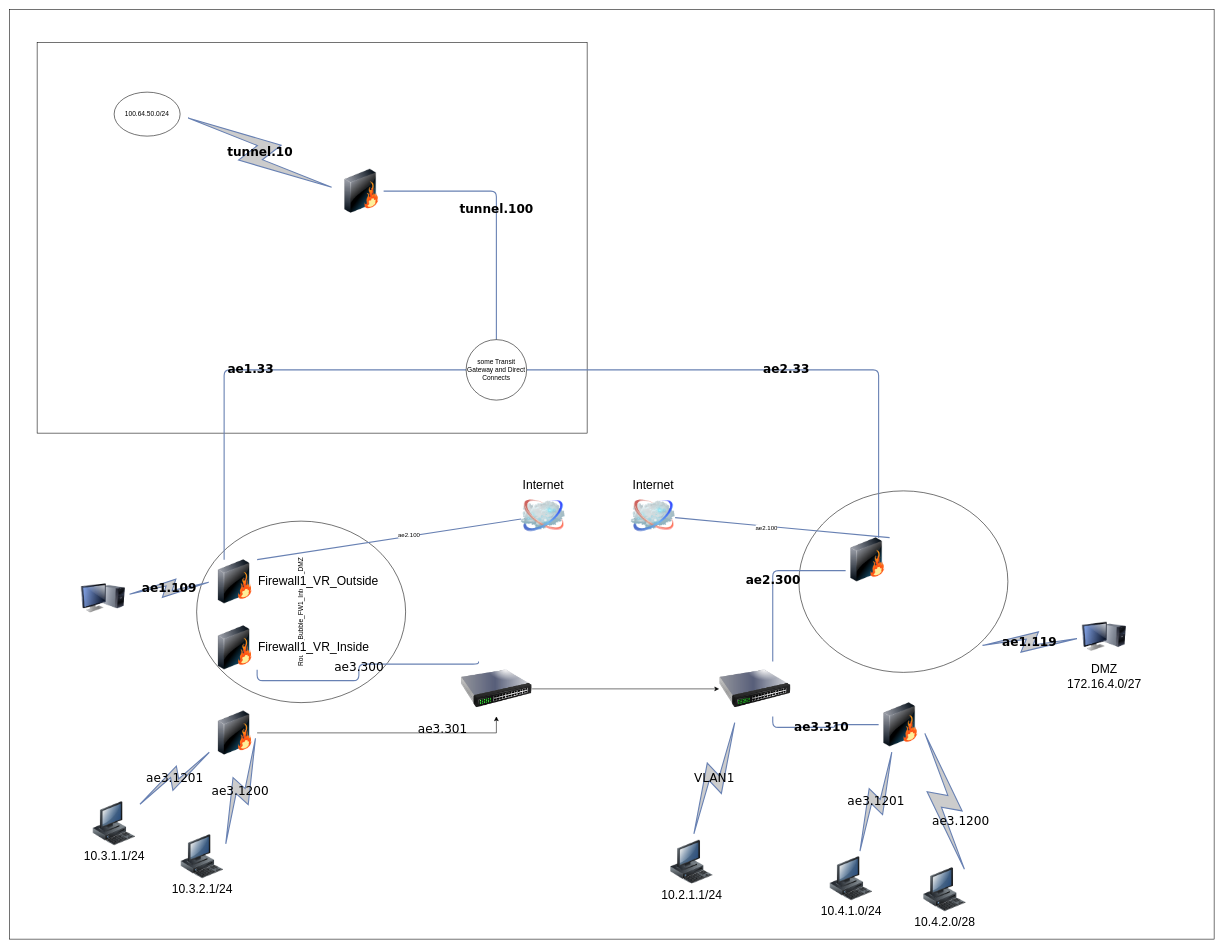
Image size: 1224x949. Some labels were removed from this diagram. Each missing label, with the box of its shape:
DMZ 172.16.3.0/27: (81, 576, 125, 620)
Firewall1_VR_Server: (213, 711, 257, 755)
Firewall2_VR_default: (845, 537, 889, 581)
Firewall3_VR-Default: (878, 702, 922, 746)
Firewall_Cloud: (339, 169, 383, 213)
Routing_Bubble_FW2_default: (798, 490, 1008, 672)
Some Cloudy Place Supernet 100.64.0.0/10: (37, 42, 587, 433)
